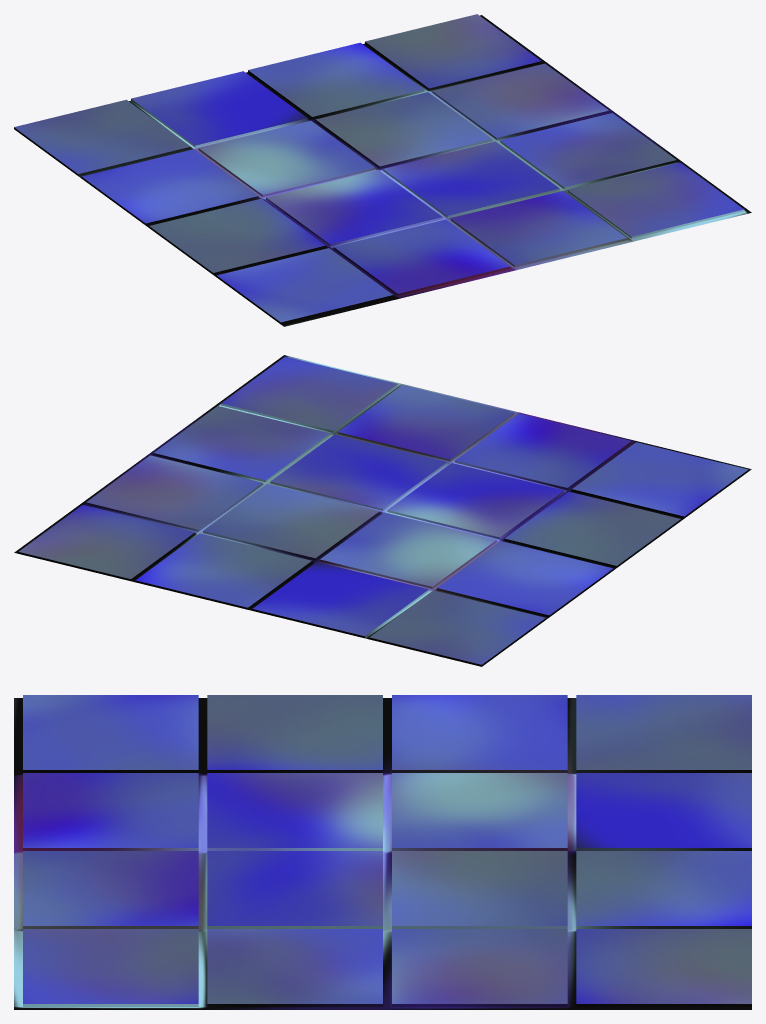
Rendered from Piso_024.fbx.
3 renders of one model, top to bottom at view 1: azimuth 30°, elevation 25°; view 2: azimuth 150°, elevation 25°; view 3: azimuth 270°, elevation 25°, orthographic. The views are drawn at different scales.
Visible parts, largest first — view 1: Plane; view 2: Plane; view 3: Plane.
Boxes of the visible parts, x1,y1,x2,y2 form: Plane: (14, 14, 751, 326); Plane: (14, 355, 751, 666); Plane: (14, 695, 751, 1009).
Size of the model in its own units: 600 by 2.51 by 600.
